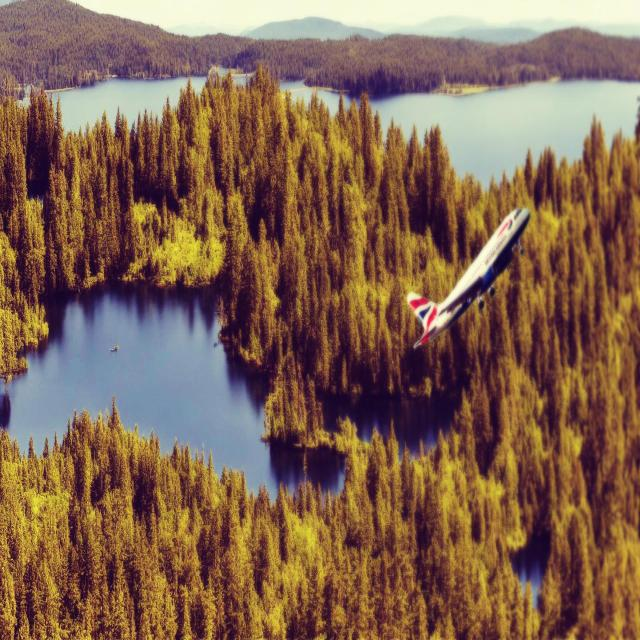airplane: (406, 206, 530, 350)
